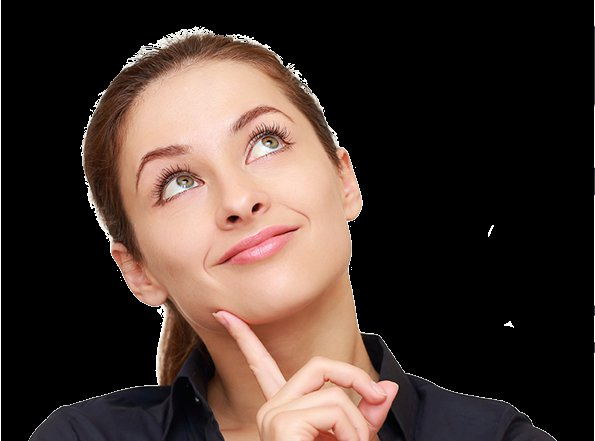noMask: (80, 25, 414, 349)
